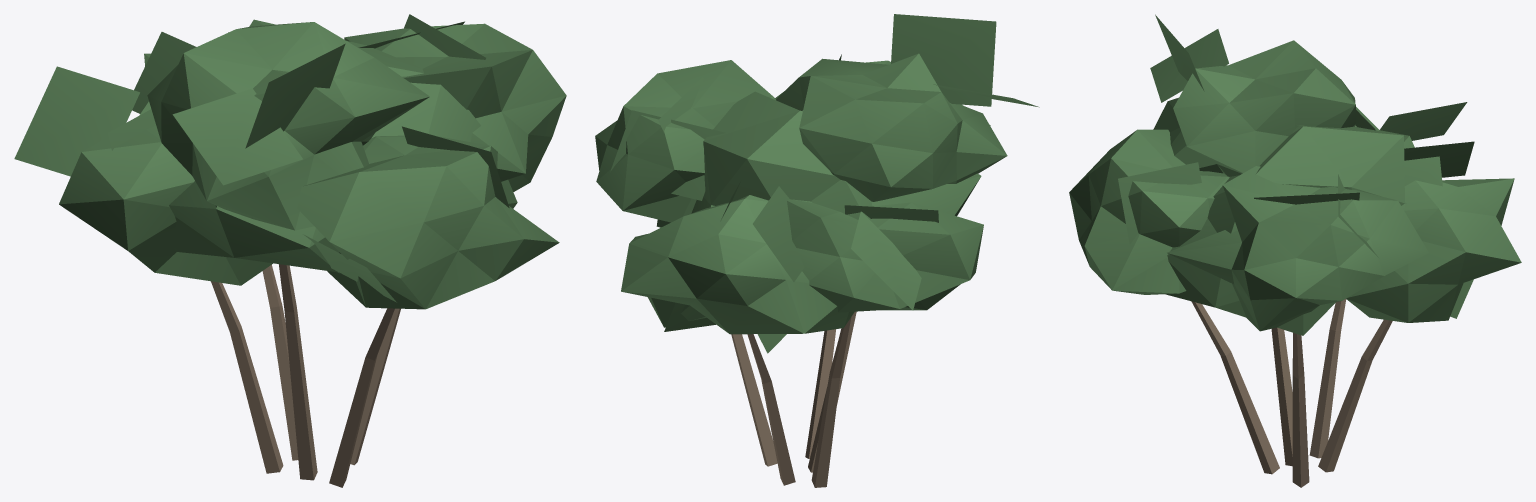
The model's file is veg-wax-myrtle.glb.
3 views of the same model, side by side, from view 1: azimuth 30°, elevation 25°; view 2: azimuth 150°, elevation 25°; view 3: azimuth 270°, elevation 25° (orthographic). The views are drawn at different scales.
Parts seen in each view (by area): view 1: LOD0; view 2: LOD0; view 3: LOD0.
Part boxes in pixels (box(x1,y1,x2,y2)): LOD0: box(14, 14, 566, 487); LOD0: box(595, 14, 1039, 487); LOD0: box(1069, 14, 1521, 487).
Size of what is drawn, in the model's own units: 2.66 by 2.66 by 2.71.
